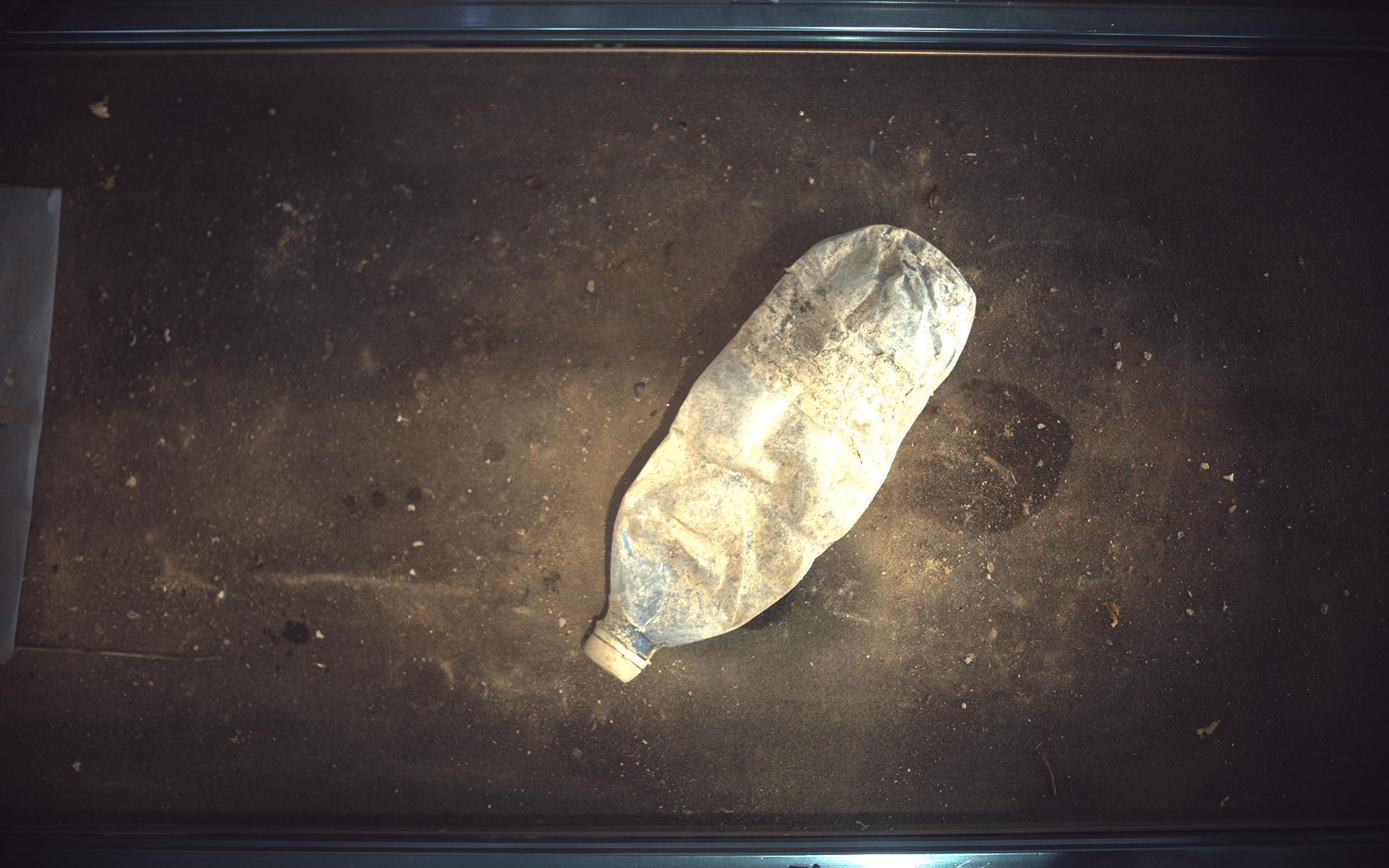general_w: (584, 224, 977, 683)
